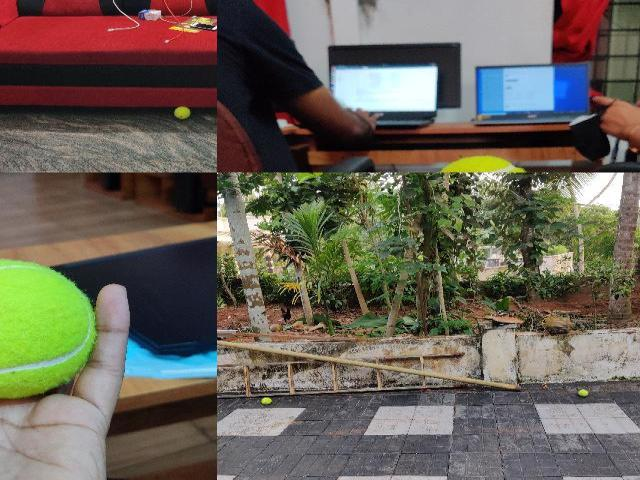tennis-ball: (0, 259, 95, 398), (428, 156, 536, 172), (173, 106, 190, 119), (578, 389, 588, 397), (261, 397, 271, 404)
